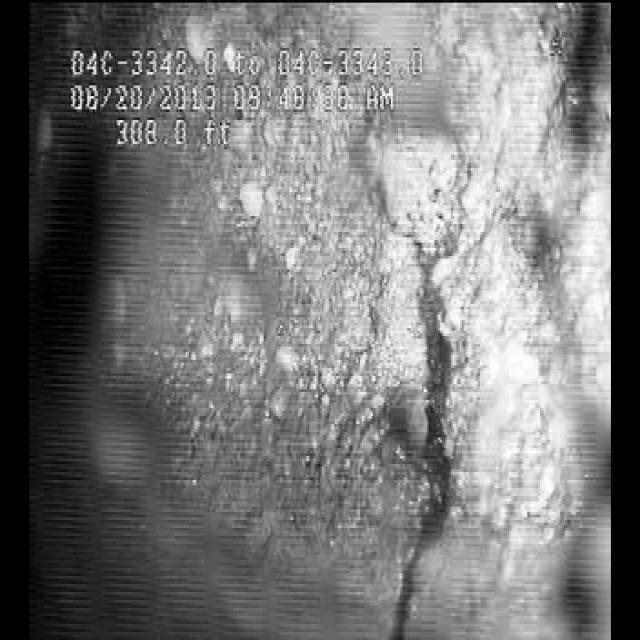Crack: (349, 146, 517, 632)
